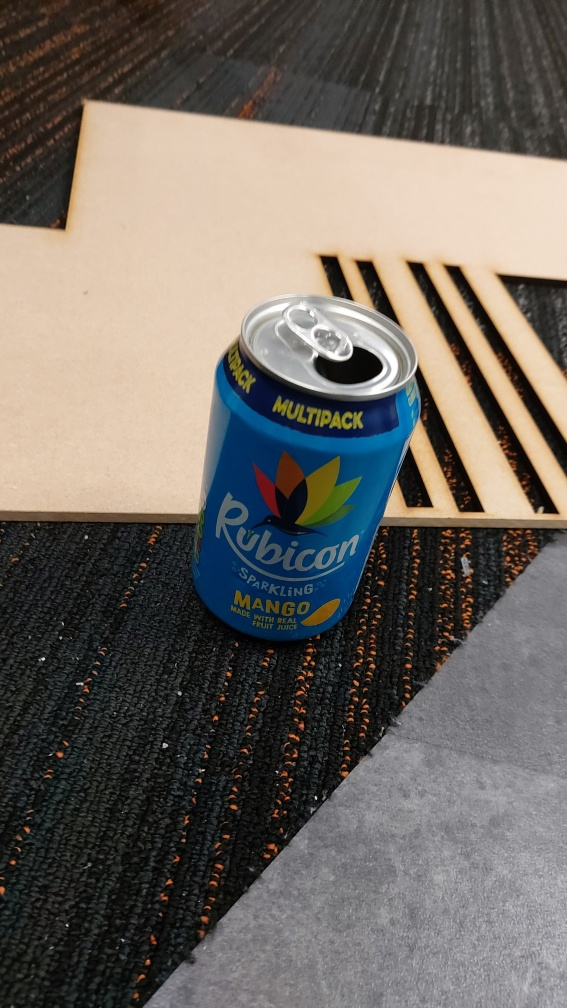can_blue: (159, 268, 440, 688)
